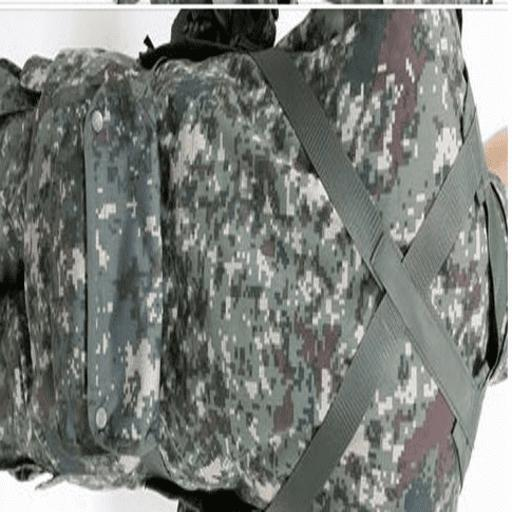korea army: (0, 8, 510, 511), (2, 4, 502, 508)
